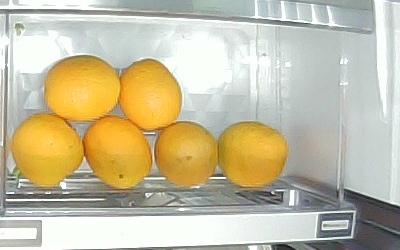orange: (12, 115, 84, 187), (44, 54, 120, 122), (83, 116, 152, 190), (217, 121, 288, 189), (118, 59, 183, 131), (155, 122, 217, 188)
